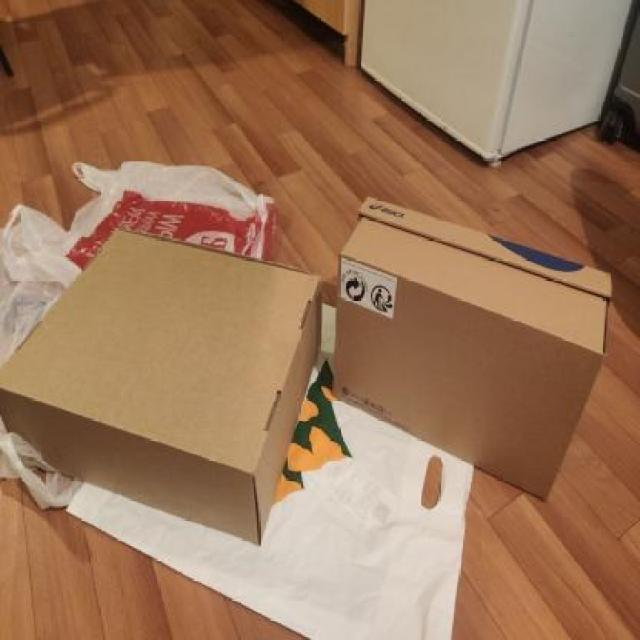box: (0, 219, 323, 551), (336, 198, 614, 502)
